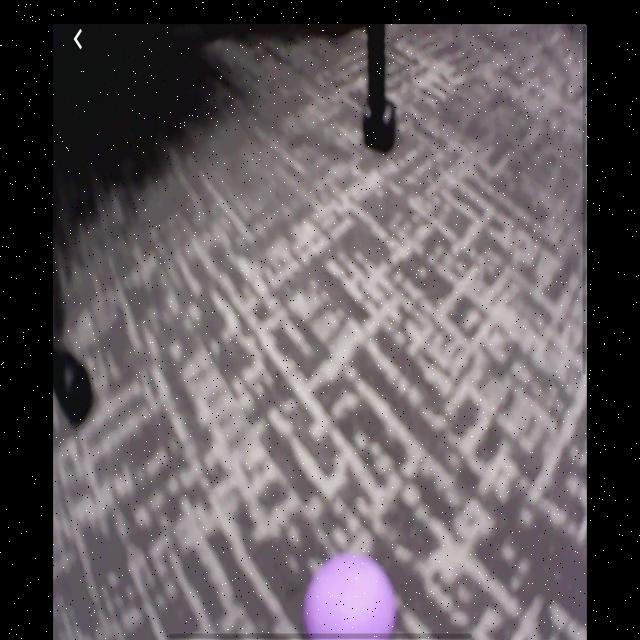ball: (303, 553, 398, 637)
